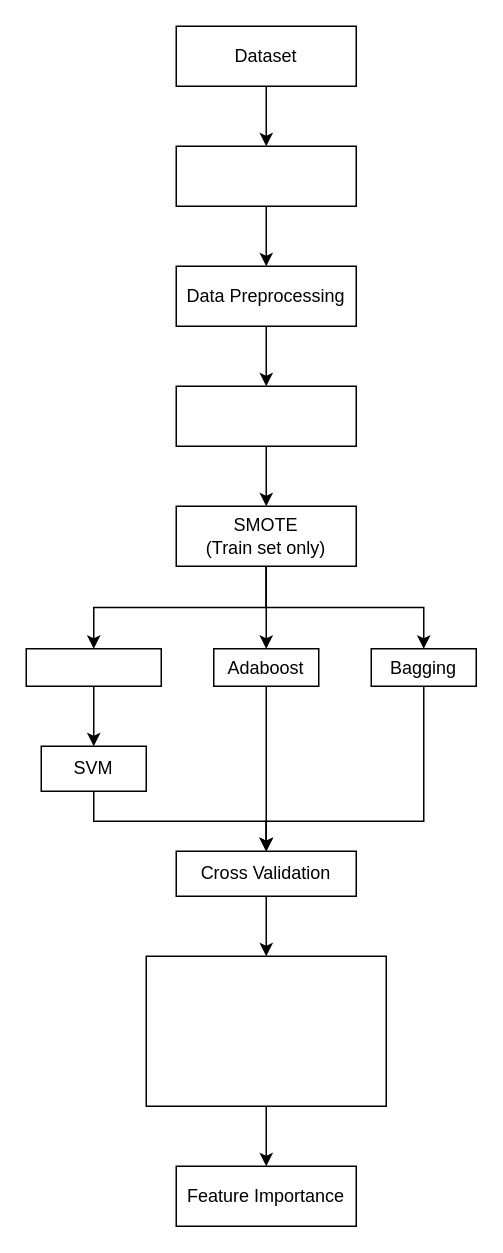
This 503x1253 diagram has some shape labels left out. Each missing label, with the centre of its shape:
"Exploratory Data Analysis" belongs at (x=265, y=175).
"Feature Scaling" belongs at (x=93, y=666).
"Model Evaluation F1 Score ROC AUC Confusion Matrix" belongs at (x=265, y=1030).
"Train-Test Split" belongs at (x=265, y=415).
